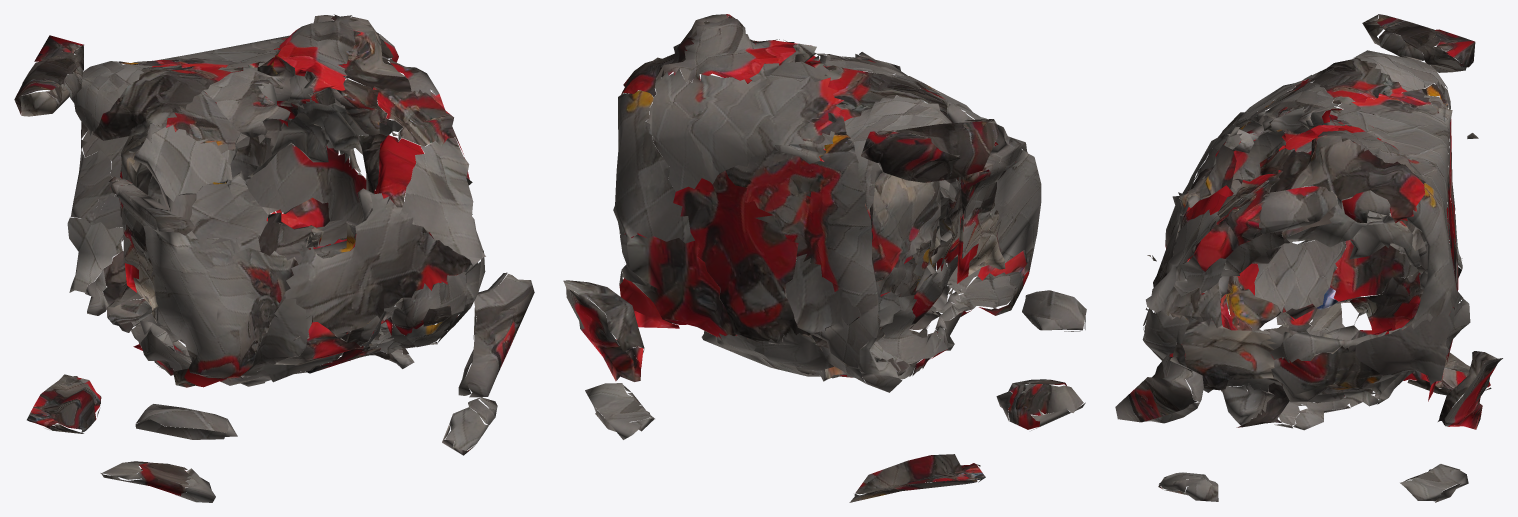
Rendered from wall_panel_breach_hole_01.glb.
3 renders of one model, left to right at view 1: azimuth 30°, elevation 25°; view 2: azimuth 150°, elevation 25°; view 3: azimuth 270°, elevation 25°, orthographic. The views are drawn at different scales.
Visible parts, largest first — view 1: tripo_node_c8ed3c23-68df-49bc-a820-a0f87de2e418; view 2: tripo_node_c8ed3c23-68df-49bc-a820-a0f87de2e418; view 3: tripo_node_c8ed3c23-68df-49bc-a820-a0f87de2e418.
Boxes of the visible parts, box(x1,y1,x2,y2) form: tripo_node_c8ed3c23-68df-49bc-a820-a0f87de2e418: box(14, 14, 534, 502); tripo_node_c8ed3c23-68df-49bc-a820-a0f87de2e418: box(563, 14, 1086, 502); tripo_node_c8ed3c23-68df-49bc-a820-a0f87de2e418: box(1115, 14, 1502, 502).
Size of the model in its own units: 1 by 0.8992 by 0.9021.
Materials: 1 (1 with a texture image).
